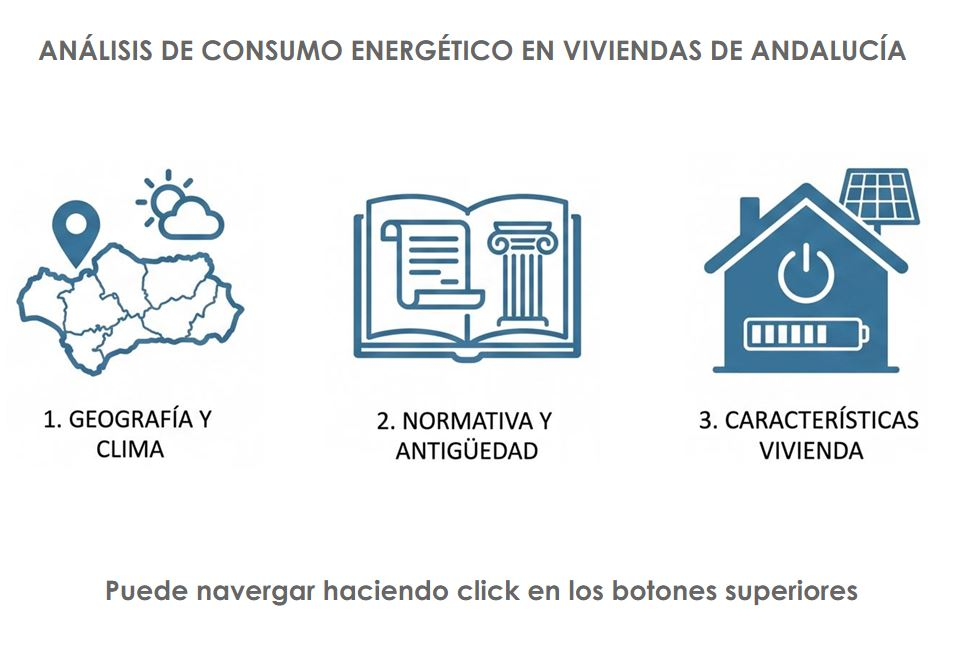

What the dashboard file says about the page in this screenshot:
{"tool":"tableau","page":{"name":"Inicio","canvas":[1024,768],"ordinal":2},"visuals":[{"type":"text","box":[23,45,943,98]},{"type":"dashboard-object","box":[698,198,265,311]},{"type":"dashboard-object","box":[29,205,259,310]},{"type":"dashboard-object","box":[347,210,277,310]},{"type":"text","box":[32,585,943,98]}]}

Visuals, with their boxes on the page's 1024x768 design canvas (x1, y1, x2, y2). These are canvas units, not pixel positions in the 978x654 screenshot, which may show the page scaled, cropped or inside an application window:
text: (23,45,966,143)
dashboard-object: (698,198,963,509)
dashboard-object: (29,205,288,515)
dashboard-object: (347,210,624,520)
text: (32,585,975,683)
